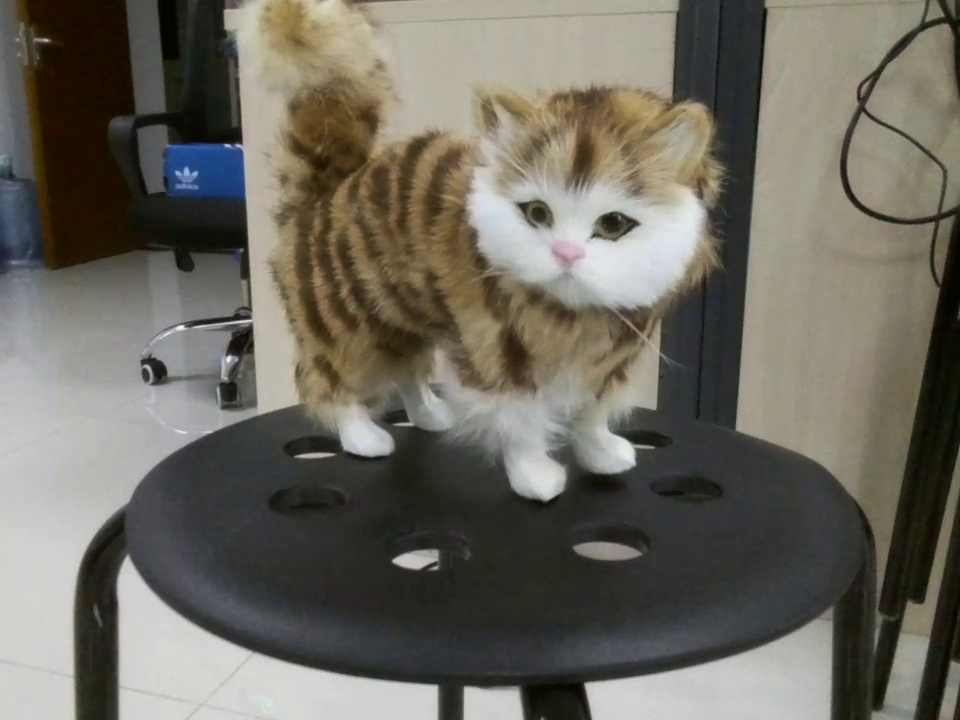cat: (253, 5, 738, 486)
